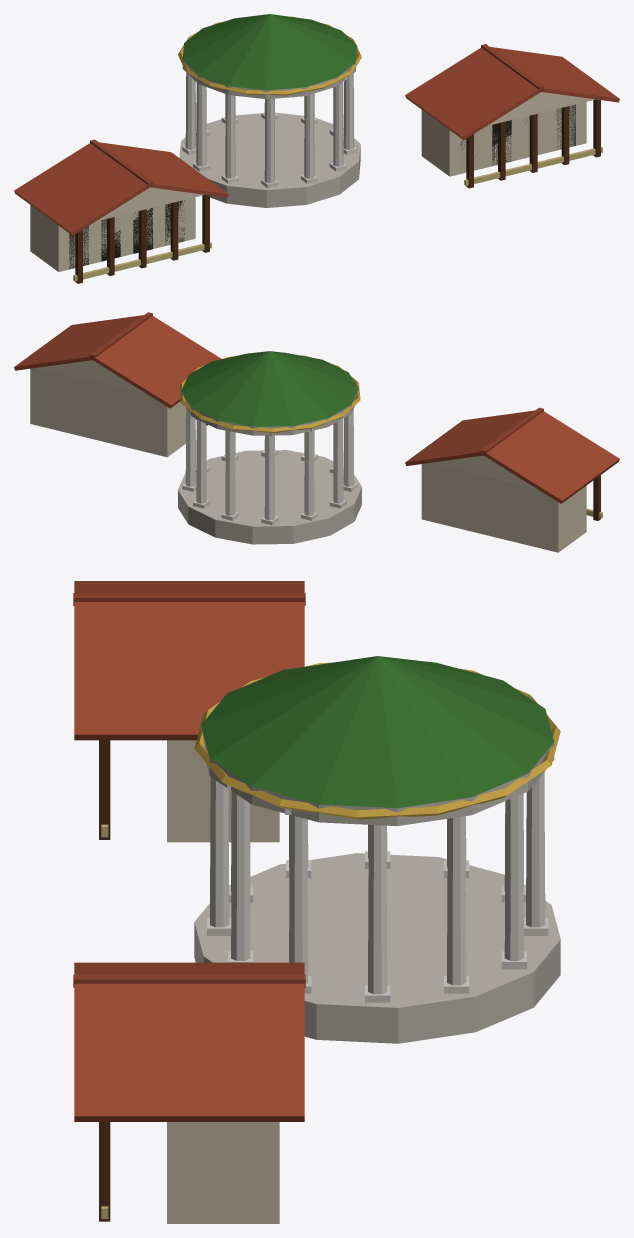
Rendered from centaur_court_broken.glb.
3 views of the same model, one above another, from view 1: azimuth 30°, elevation 25°; view 2: azimuth 150°, elevation 25°; view 3: azimuth 270°, elevation 25° (orthographic). The views are drawn at different scales.
Visible parts, largest first — view 1: centaur_court_piece7, centaur_court_piece2, centaur_court_piece10, centaur_court_piece6, centaur_court_piece12, centaur_court_piece0, centaur_court_piece13, centaur_court_piece1, centaur_court_piece3, centaur_court_piece4, centaur_court_piece9, centaur_court_piece5 (+2 smaller); view 2: centaur_court_piece10, centaur_court_piece7, centaur_court_piece1, centaur_court_piece2, centaur_court_piece12, centaur_court_piece9, centaur_court_piece5, centaur_court_piece8, centaur_court_piece3, centaur_court_piece0, centaur_court_piece13, centaur_court_piece4 (+2 smaller); view 3: centaur_court_piece7, centaur_court_piece1, centaur_court_piece6, centaur_court_piece5, centaur_court_piece2, centaur_court_piece4, centaur_court_piece10, centaur_court_piece0, centaur_court_piece9, centaur_court_piece11, centaur_court_piece13, centaur_court_piece3 (+2 smaller).
Part boxes in pixels (x1=…): centaur_court_piece7: x1=421, y1=44, x2=619, y2=188; centaur_court_piece2: x1=73, y1=150, x2=212, y2=278; centaur_court_piece10: x1=14, y1=139, x2=134, y2=283; centaur_court_piece6: x1=272, y1=21, x2=361, y2=177; centaur_court_piece12: x1=405, y1=68, x2=530, y2=174; centaur_court_piece0: x1=194, y1=15, x2=355, y2=206; centaur_court_piece13: x1=209, y1=14, x2=309, y2=139; centaur_court_piece1: x1=188, y1=15, x2=301, y2=169; centaur_court_piece3: x1=180, y1=29, x2=327, y2=207; centaur_court_piece4: x1=177, y1=140, x2=247, y2=259; centaur_court_piece9: x1=178, y1=36, x2=264, y2=170; centaur_court_piece5: x1=290, y1=16, x2=360, y2=169; centaur_court_piece10: x1=442, y1=431, x2=619, y2=552; centaur_court_piece7: x1=14, y1=312, x2=208, y2=457; centaur_court_piece1: x1=180, y1=369, x2=304, y2=544; centaur_court_piece2: x1=405, y1=407, x2=617, y2=522; centaur_court_piece12: x1=128, y1=321, x2=221, y2=428; centaur_court_piece9: x1=260, y1=393, x2=338, y2=544; centaur_court_piece5: x1=178, y1=369, x2=296, y2=510; centaur_court_piece8: x1=276, y1=443, x2=473, y2=544; centaur_court_piece3: x1=276, y1=380, x2=359, y2=494; centaur_court_piece0: x1=207, y1=361, x2=359, y2=469; centaur_court_piece13: x1=233, y1=351, x2=360, y2=400; centaur_court_piece4: x1=318, y1=418, x2=477, y2=525; centaur_court_piece7: x1=73, y1=972, x2=305, y2=1223; centaur_court_piece1: x1=283, y1=663, x2=560, y2=1026; centaur_court_piece6: x1=194, y1=677, x2=408, y2=962; centaur_court_piece5: x1=253, y1=713, x2=509, y2=1043; centaur_court_piece2: x1=73, y1=581, x2=279, y2=824; centaur_court_piece4: x1=74, y1=707, x2=413, y2=874; centaur_court_piece10: x1=74, y1=581, x2=305, y2=667; centaur_court_piece0: x1=194, y1=658, x2=427, y2=962; centaur_court_piece9: x1=308, y1=664, x2=525, y2=913; centaur_court_piece11: x1=253, y1=742, x2=444, y2=1024; centaur_court_piece13: x1=223, y1=656, x2=406, y2=726; centaur_court_piece3: x1=250, y1=659, x2=446, y2=951.
Bounding box in the file's own units: 6.73 × 1.82 × 2.59.
